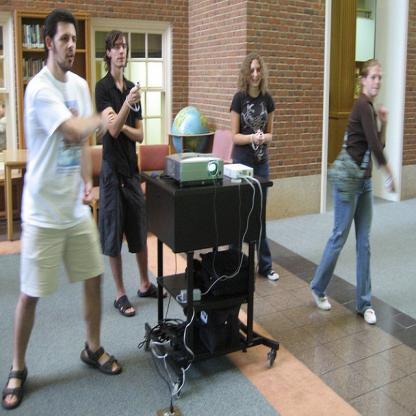handbag: (327, 131, 369, 202)
